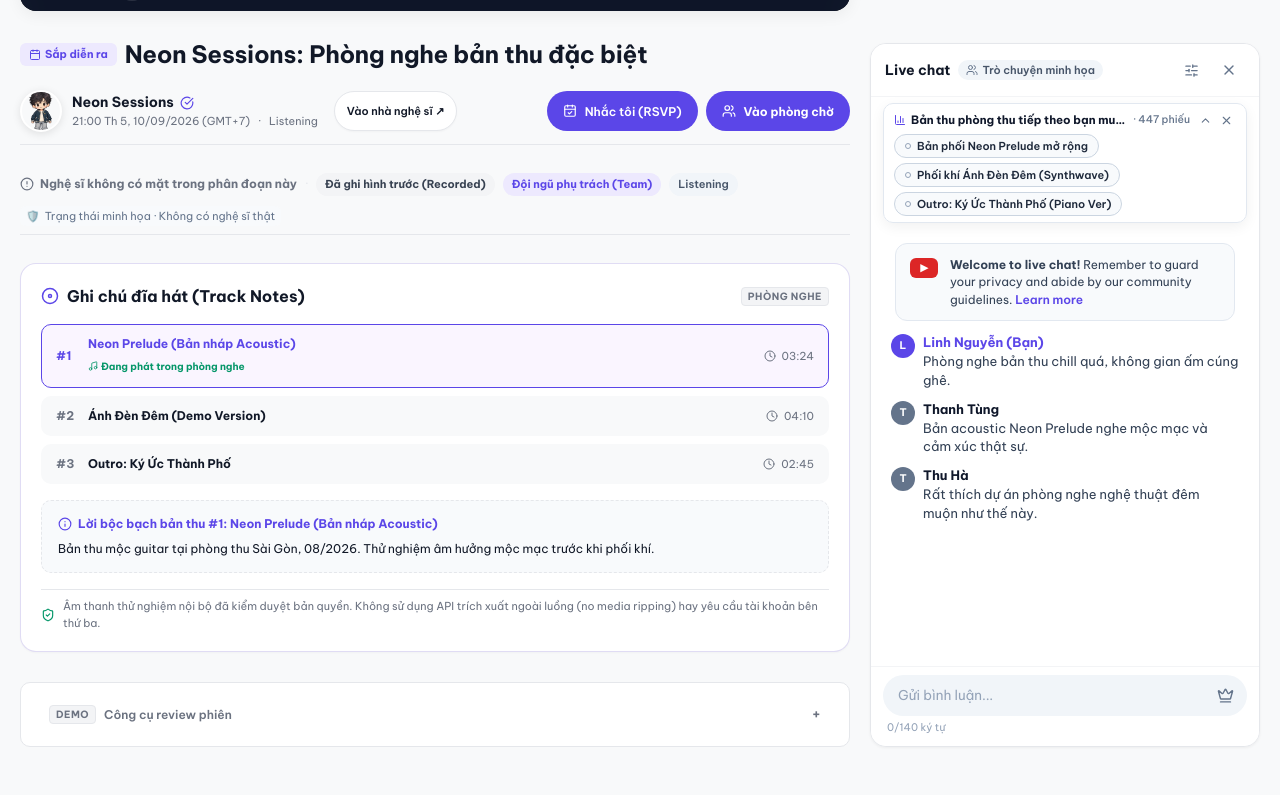
Test: T13 Acceptance: Session Variants (Listening Room & Live House) › 3. Listening Room Variant Features & Disclosures › displays truthful team-host role, recorded segment badge, and track liner notes
The width and height of the screenshot is (1280, 795).
(page scrolled)
Check: the text with test id "host-role-tag" reads "Đội ngũ phụ trách (Team)", box left=512, top=177, right=652, bottom=191
Check: the text with test id "segment-mode-tag" reads "Đã ghi hình trước (Recorded)", box left=325, top=177, right=486, bottom=191
Note: Switching track note selection updates details
Click the list item with test id "track-item-2" at (435, 416), box left=41, top=396, right=829, bottom=436
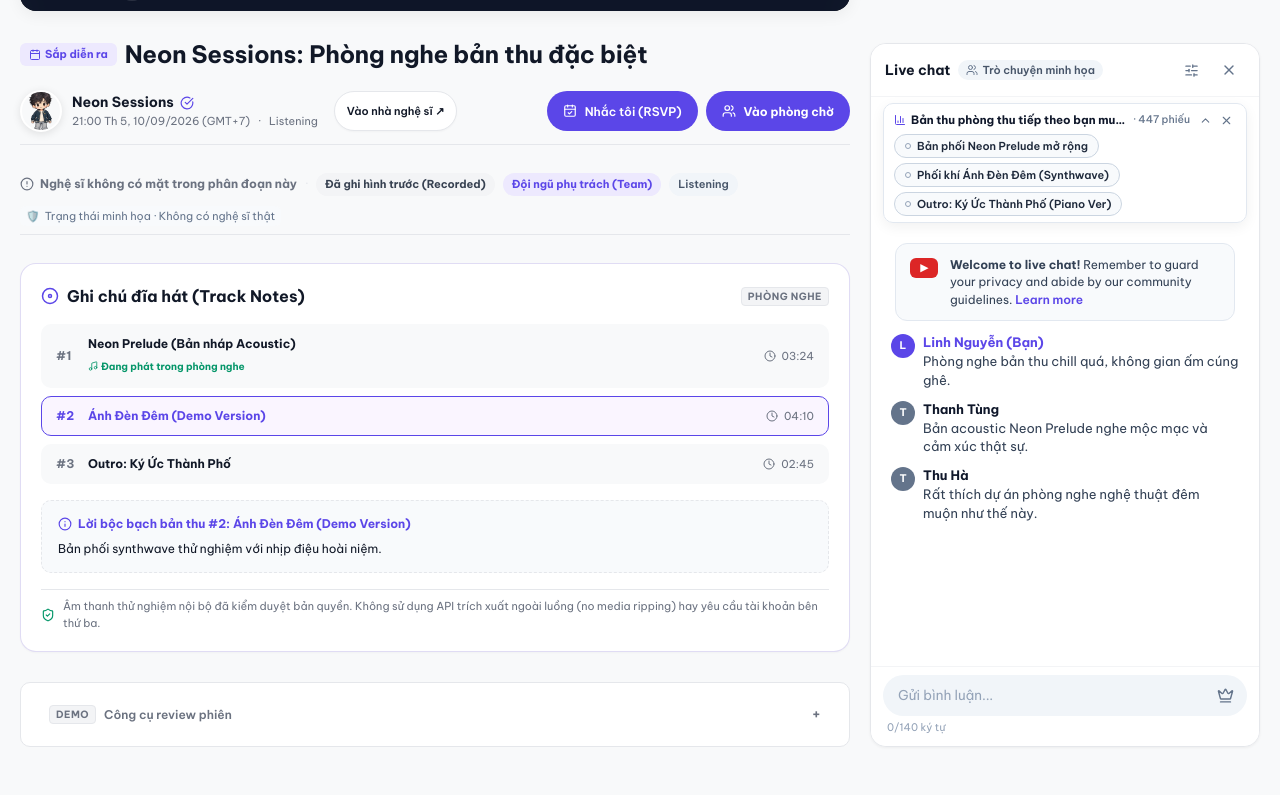
Check: the element with test id "cleared-local-media-notice" is shown, box left=41, top=589, right=829, bottom=631
Check: the element with test id "selected-track-notes" shows "Bản phối synthwave thử nghiệm", box left=58, top=541, right=382, bottom=556
